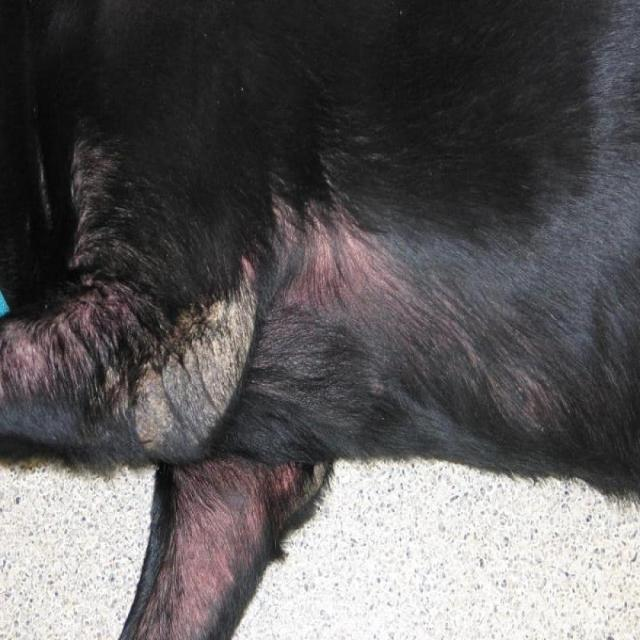allergic dermatitis: (126, 453, 291, 640), (251, 189, 411, 323), (0, 272, 125, 398)
